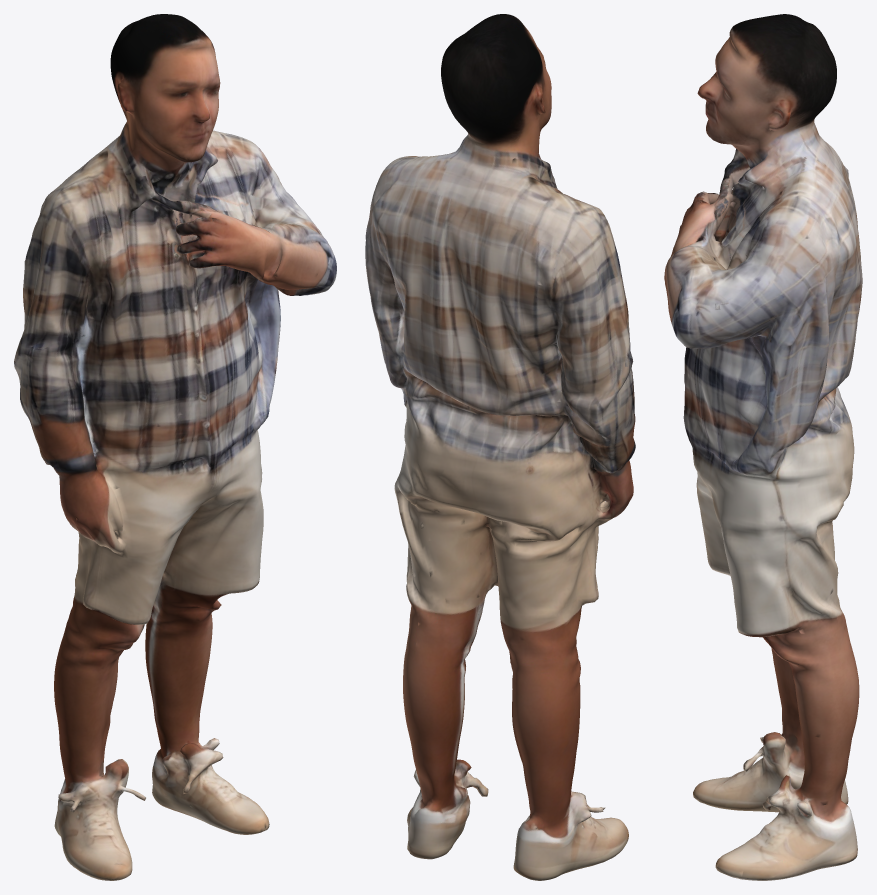
File: Selfie_in_the_Bedroom_0907210938.glb
3 renders of one model, left to right at view 1: azimuth 30°, elevation 25°; view 2: azimuth 150°, elevation 25°; view 3: azimuth 270°, elevation 25°, orthographic.
Size of the model in its own units: 0.6843 by 2 by 0.4332.
1 material, 1 textured.
